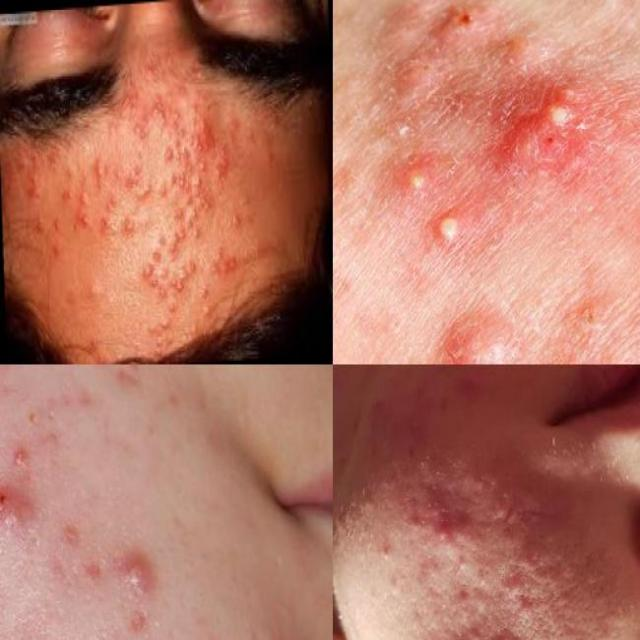acne_scars: (102, 364, 152, 402)
comedone: (499, 570, 528, 597), (519, 600, 536, 622)
cystic: (422, 304, 529, 364)
papule: (432, 512, 471, 559), (0, 472, 27, 536), (486, 490, 518, 532), (401, 401, 427, 441), (477, 623, 532, 640), (70, 204, 93, 234), (183, 203, 201, 240), (160, 292, 180, 323), (149, 94, 169, 125), (169, 195, 190, 222), (223, 247, 241, 278), (129, 117, 149, 144), (169, 168, 189, 194), (46, 210, 64, 237), (192, 133, 210, 159), (21, 179, 38, 206), (137, 261, 155, 285), (148, 242, 164, 269), (128, 162, 144, 189), (208, 162, 224, 189), (170, 272, 186, 298), (165, 242, 182, 266), (194, 158, 210, 183), (158, 146, 174, 170), (198, 193, 215, 214), (74, 187, 88, 211), (91, 158, 106, 179), (60, 182, 74, 204), (111, 165, 123, 189), (187, 258, 200, 279), (214, 143, 228, 160)
pustule: (91, 533, 172, 608), (428, 206, 468, 250), (399, 156, 437, 198)
sebo-crystan-conglo: (482, 81, 608, 195)
